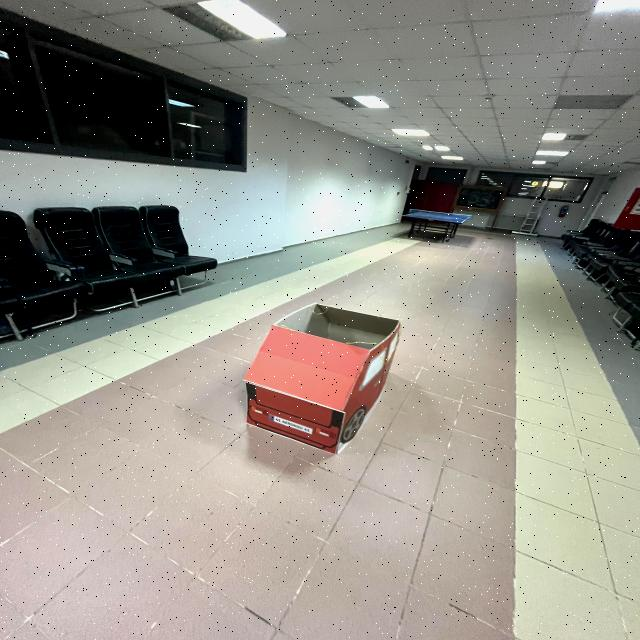red_car: (227, 297, 425, 470)
